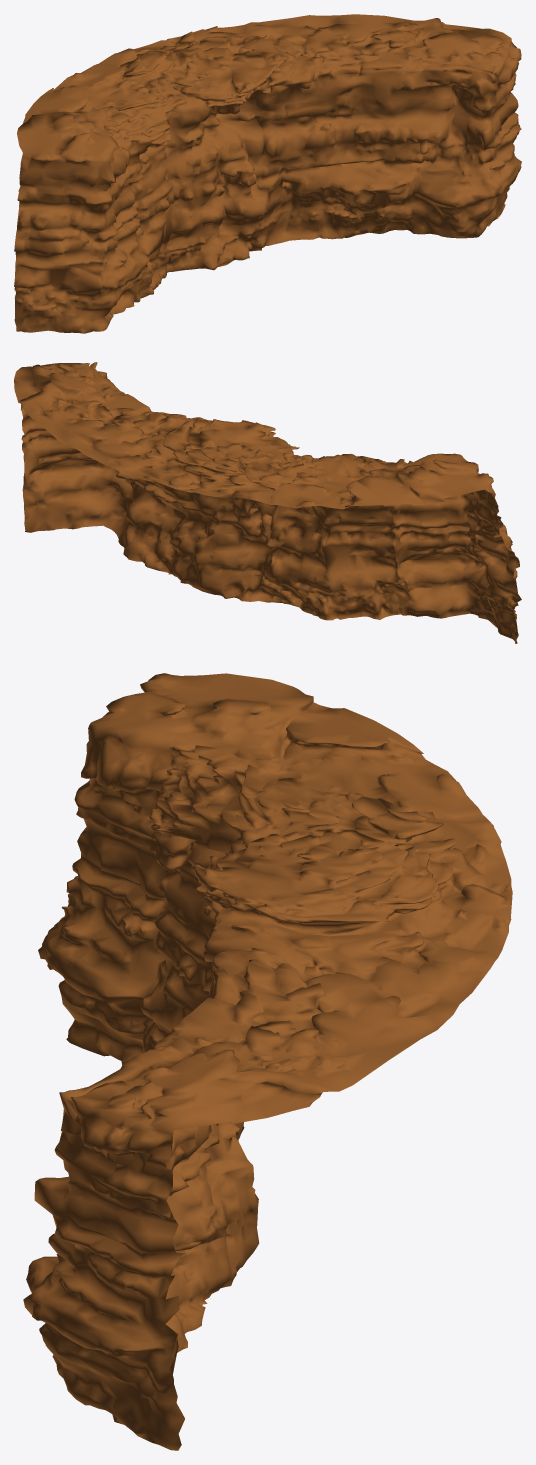
The model's file is MSH_Rocks_Cliff_32_d.FBX.
3 renders of one model, top to bottom at view 1: azimuth 30°, elevation 25°; view 2: azimuth 150°, elevation 25°; view 3: azimuth 270°, elevation 25°, orthographic. The views are drawn at different scales.
Parts seen in each view (by area): view 1: MESH_LOD0; view 2: MESH_LOD0; view 3: MESH_LOD0.
Part boxes in pixels (x1,y1,x2,y2): MESH_LOD0: (14, 14, 521, 333); MESH_LOD0: (14, 362, 521, 643); MESH_LOD0: (23, 673, 512, 1450).
Size of the model in its own units: 384 by 131 by 164.
